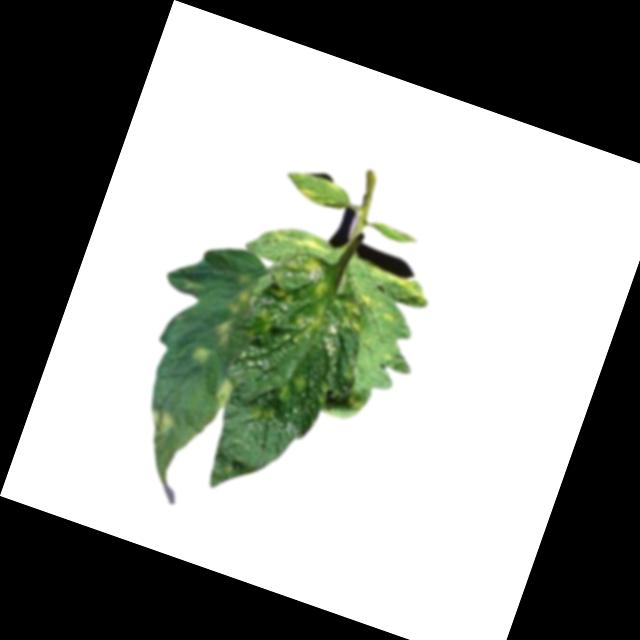Leaf_Mold: (288, 283, 367, 358), (207, 278, 254, 346), (365, 261, 429, 308), (286, 254, 328, 296), (139, 403, 177, 446), (203, 373, 238, 414), (187, 343, 209, 364)
